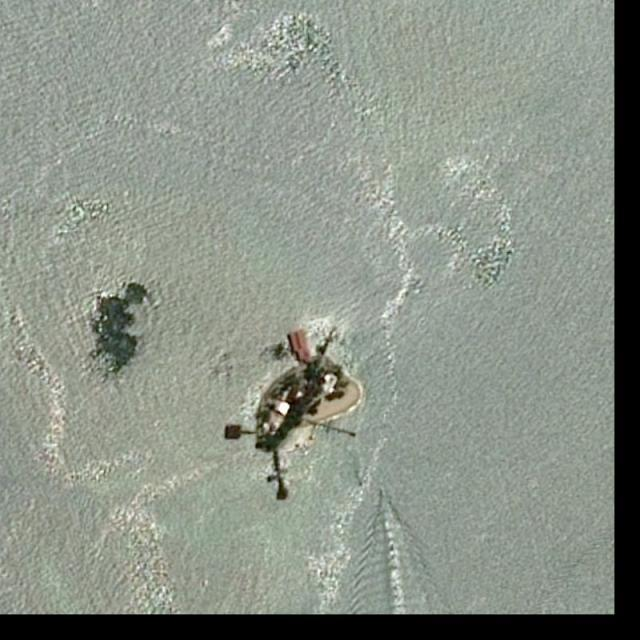ship: (381, 489, 387, 498)
